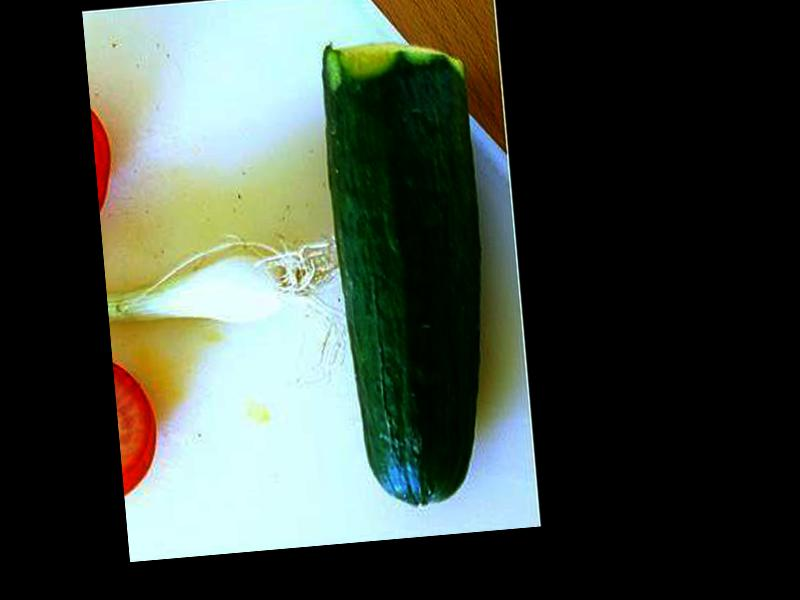Cucumber: (319, 33, 504, 513)
